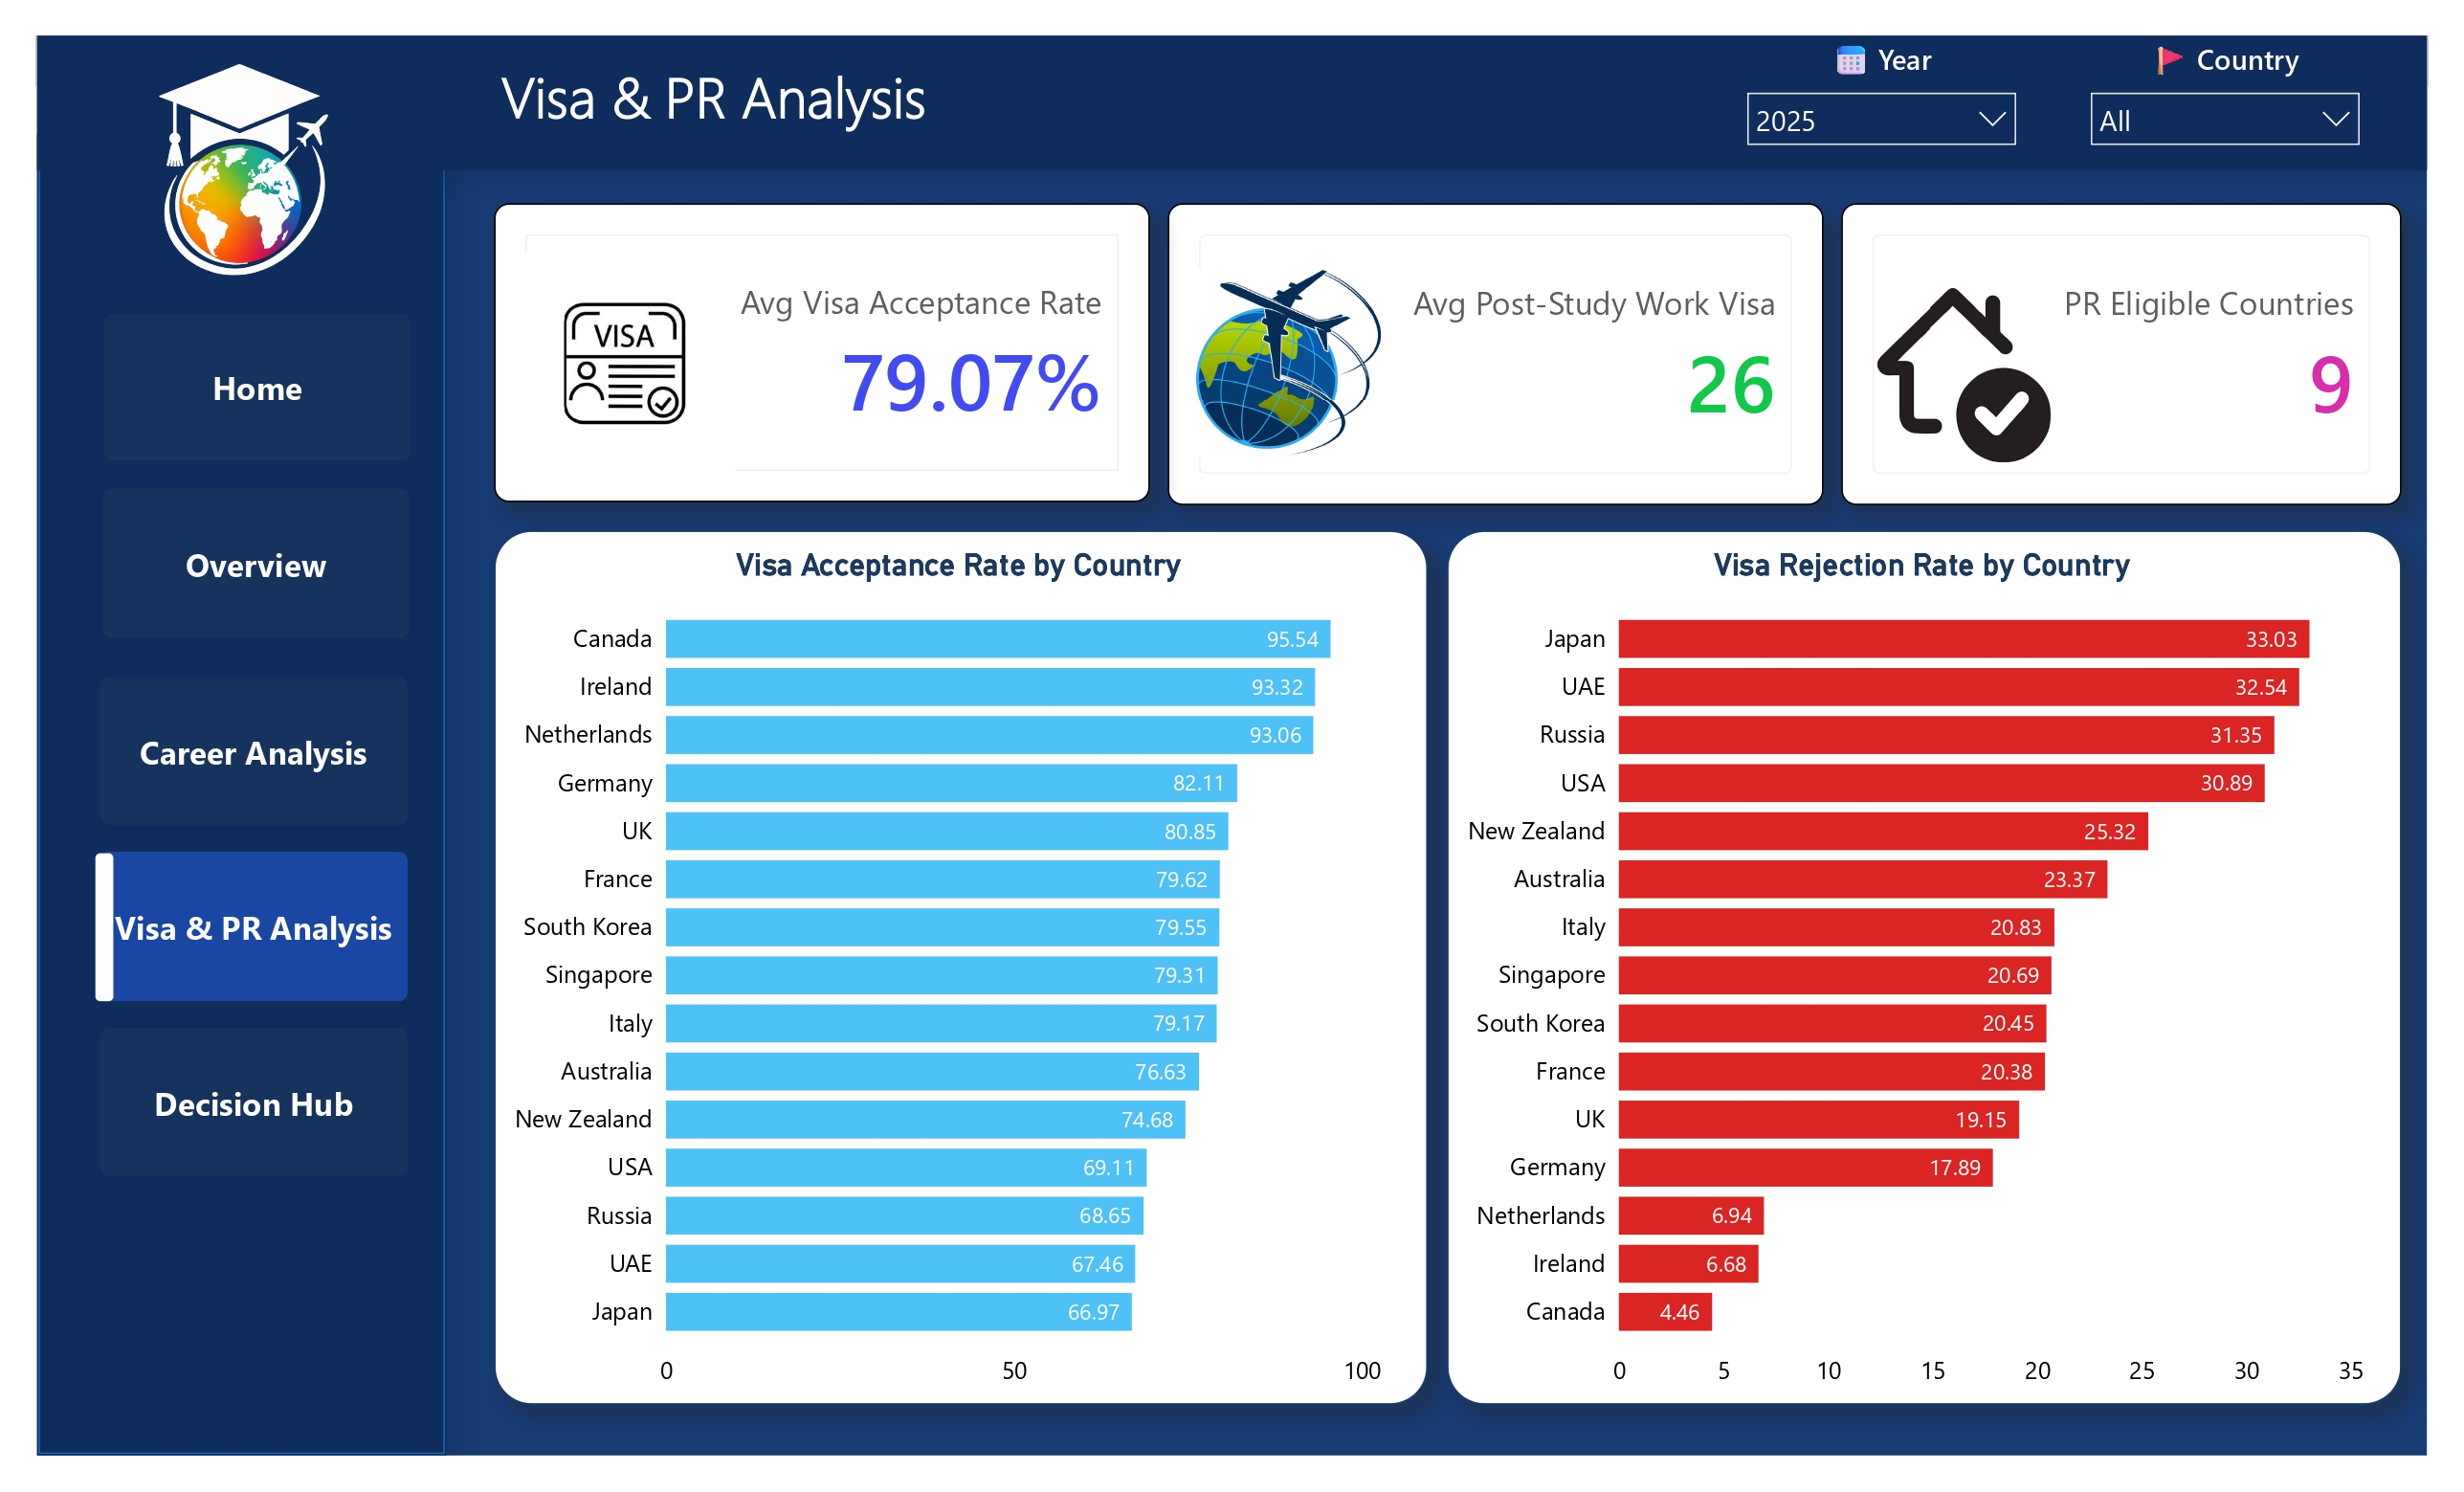

Layout of this report page (visuals, bound fields, positions):
{"tool":"powerbi","page":{"name":"Visa & PR Analysis","canvas":[1600,950],"ordinal":3},"visuals":[{"type":"shape","box":[0,64.6,273.8,885.9],"z":0,"group":"g2"},{"type":"cardVisual","fields":{"Data":["study_abroad_features_latest.Avg Post Study Work Visa"]},"box":[757.1,112.1,438.9,201.4],"z":0},{"type":"actionButton","box":[45,186.4,205,98.3],"z":0,"group":"g1"},{"type":"shape","box":[0,0,1600,90.1],"z":1000,"group":"g2"},{"type":"cardVisual","fields":{"Data":["study_abroad_features_latest.Avg Visa Acceptance"]},"box":[305.9,112.1,438.9,199.5],"z":1000},{"type":"actionButton","box":[43.4,303.1,205,100],"z":1000,"group":"g1"},{"type":"slicer","title":"🚩 Country","fields":{"Values":["study_abroad_features_latest.Country"]},"box":[1365,3.3,200,80],"z":2000,"group":"g2"},{"type":"cardVisual","fields":{"Data":["study_abroad_features_latest.PR Available Countries"]},"box":[1208.4,112.1,374.3,201.4],"z":2000},{"type":"actionButton","box":[41.7,428.9,205.7,99.8],"z":2000,"group":"g1"},{"type":"slicer","title":"📅 Year","fields":{"Values":["study_abroad_features_latest.Year"]},"box":[1135,3.3,200,80],"z":3000,"group":"g2"},{"type":"clusteredBarChart","title":"Visa Acceptance Rate by Country","fields":{"Category":["study_abroad_features_latest.Country_Display"],"Y":["Avg(study_abroad_features_latest.Visa_Acceptance_Rate)"]},"box":[305.9,330.6,625.1,585.2],"z":3000},{"type":"actionButton","box":[41.7,546.4,205.7,99.8],"z":3000,"group":"g1"},{"type":"image","box":[319.2,134.9,148.2,167.2],"z":4000},{"type":"actionButton","box":[41.7,663.9,205.7,99.8],"z":4000,"group":"g1"},{"type":"image","box":[756.2,155.8,163.4,125.4],"z":5000},{"type":"group","id":"g1","title":"Navigation Buttons","box":[41.7,186.4,208.3,577.3],"z":5000,"group":"g2"},{"type":"textbox","title":"Heading","box":[306.1,10.2,578.1,64.6],"z":6000,"group":"g2"},{"type":"image","box":[1216,169.1,148.2,115.9],"z":6000},{"type":"group","id":"g2","title":"Complete Nav","box":[0,0,1600,950.5],"z":7000},{"type":"shape","box":[38.6,547.3,12.3,98.6],"z":8000},{"type":"clusteredBarChart","title":"Visa Rejection Rate by Country","fields":{"Category":["study_abroad_features_latest.Country_Display"],"Y":["study_abroad_features_latest.Visa Rejection Rate"]},"box":[944.3,330.6,638.4,585.2],"z":9000},{"type":"image","box":[22.8,0,224.2,180.5],"z":13000}]}

Visuals, with their boxes on the page's 1600x950 design canvas (x1, y1, x2, y2). These are canvas units, not pixel positions in the 2464x1492 screenshot, which may show the page scaled, cropped or inside an application window:
shape: bbox=(0, 65, 274, 950)
cardVisual - study_abroad_features_latest.Avg Post Study Work Visa: bbox=(757, 112, 1196, 314)
actionButton: bbox=(45, 186, 250, 285)
shape: bbox=(0, 0, 1600, 90)
cardVisual - study_abroad_features_latest.Avg Visa Acceptance: bbox=(306, 112, 745, 312)
actionButton: bbox=(43, 303, 248, 403)
"🚩 Country" slicer: bbox=(1365, 3, 1565, 83)
cardVisual - study_abroad_features_latest.PR Available Countries: bbox=(1208, 112, 1583, 314)
actionButton: bbox=(42, 429, 247, 529)
"📅 Year" slicer: bbox=(1135, 3, 1335, 83)
"Visa Acceptance Rate by Country" clusteredBarChart: bbox=(306, 331, 931, 916)
actionButton: bbox=(42, 546, 247, 646)
image: bbox=(319, 135, 467, 302)
actionButton: bbox=(42, 664, 247, 764)
image: bbox=(756, 156, 920, 281)
"Navigation Buttons" group: bbox=(42, 186, 250, 764)
"Heading" textbox: bbox=(306, 10, 884, 75)
image: bbox=(1216, 169, 1364, 285)
"Complete Nav" group: bbox=(0, 0, 1600, 950)
shape: bbox=(39, 547, 51, 646)
"Visa Rejection Rate by Country" clusteredBarChart: bbox=(944, 331, 1583, 916)
image: bbox=(23, 0, 247, 180)
